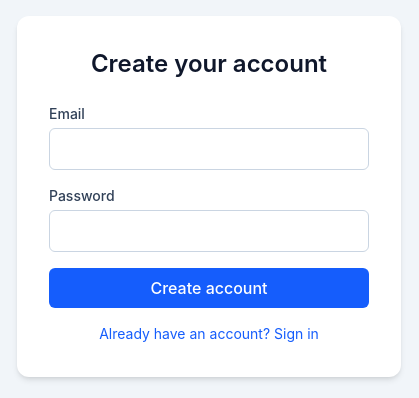
it: Login › toggles back to sign in
Click the button with test id "login-toggle-mode": (209, 334) top-left (49, 324), bottom-right (369, 344)
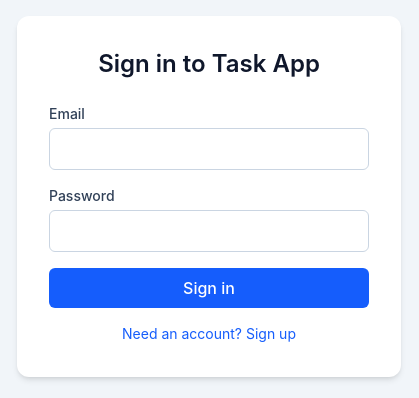
Check: the heading with test id "login-heading" reads "Sign in to Task App", box top-left (98, 48), bottom-right (320, 78)
